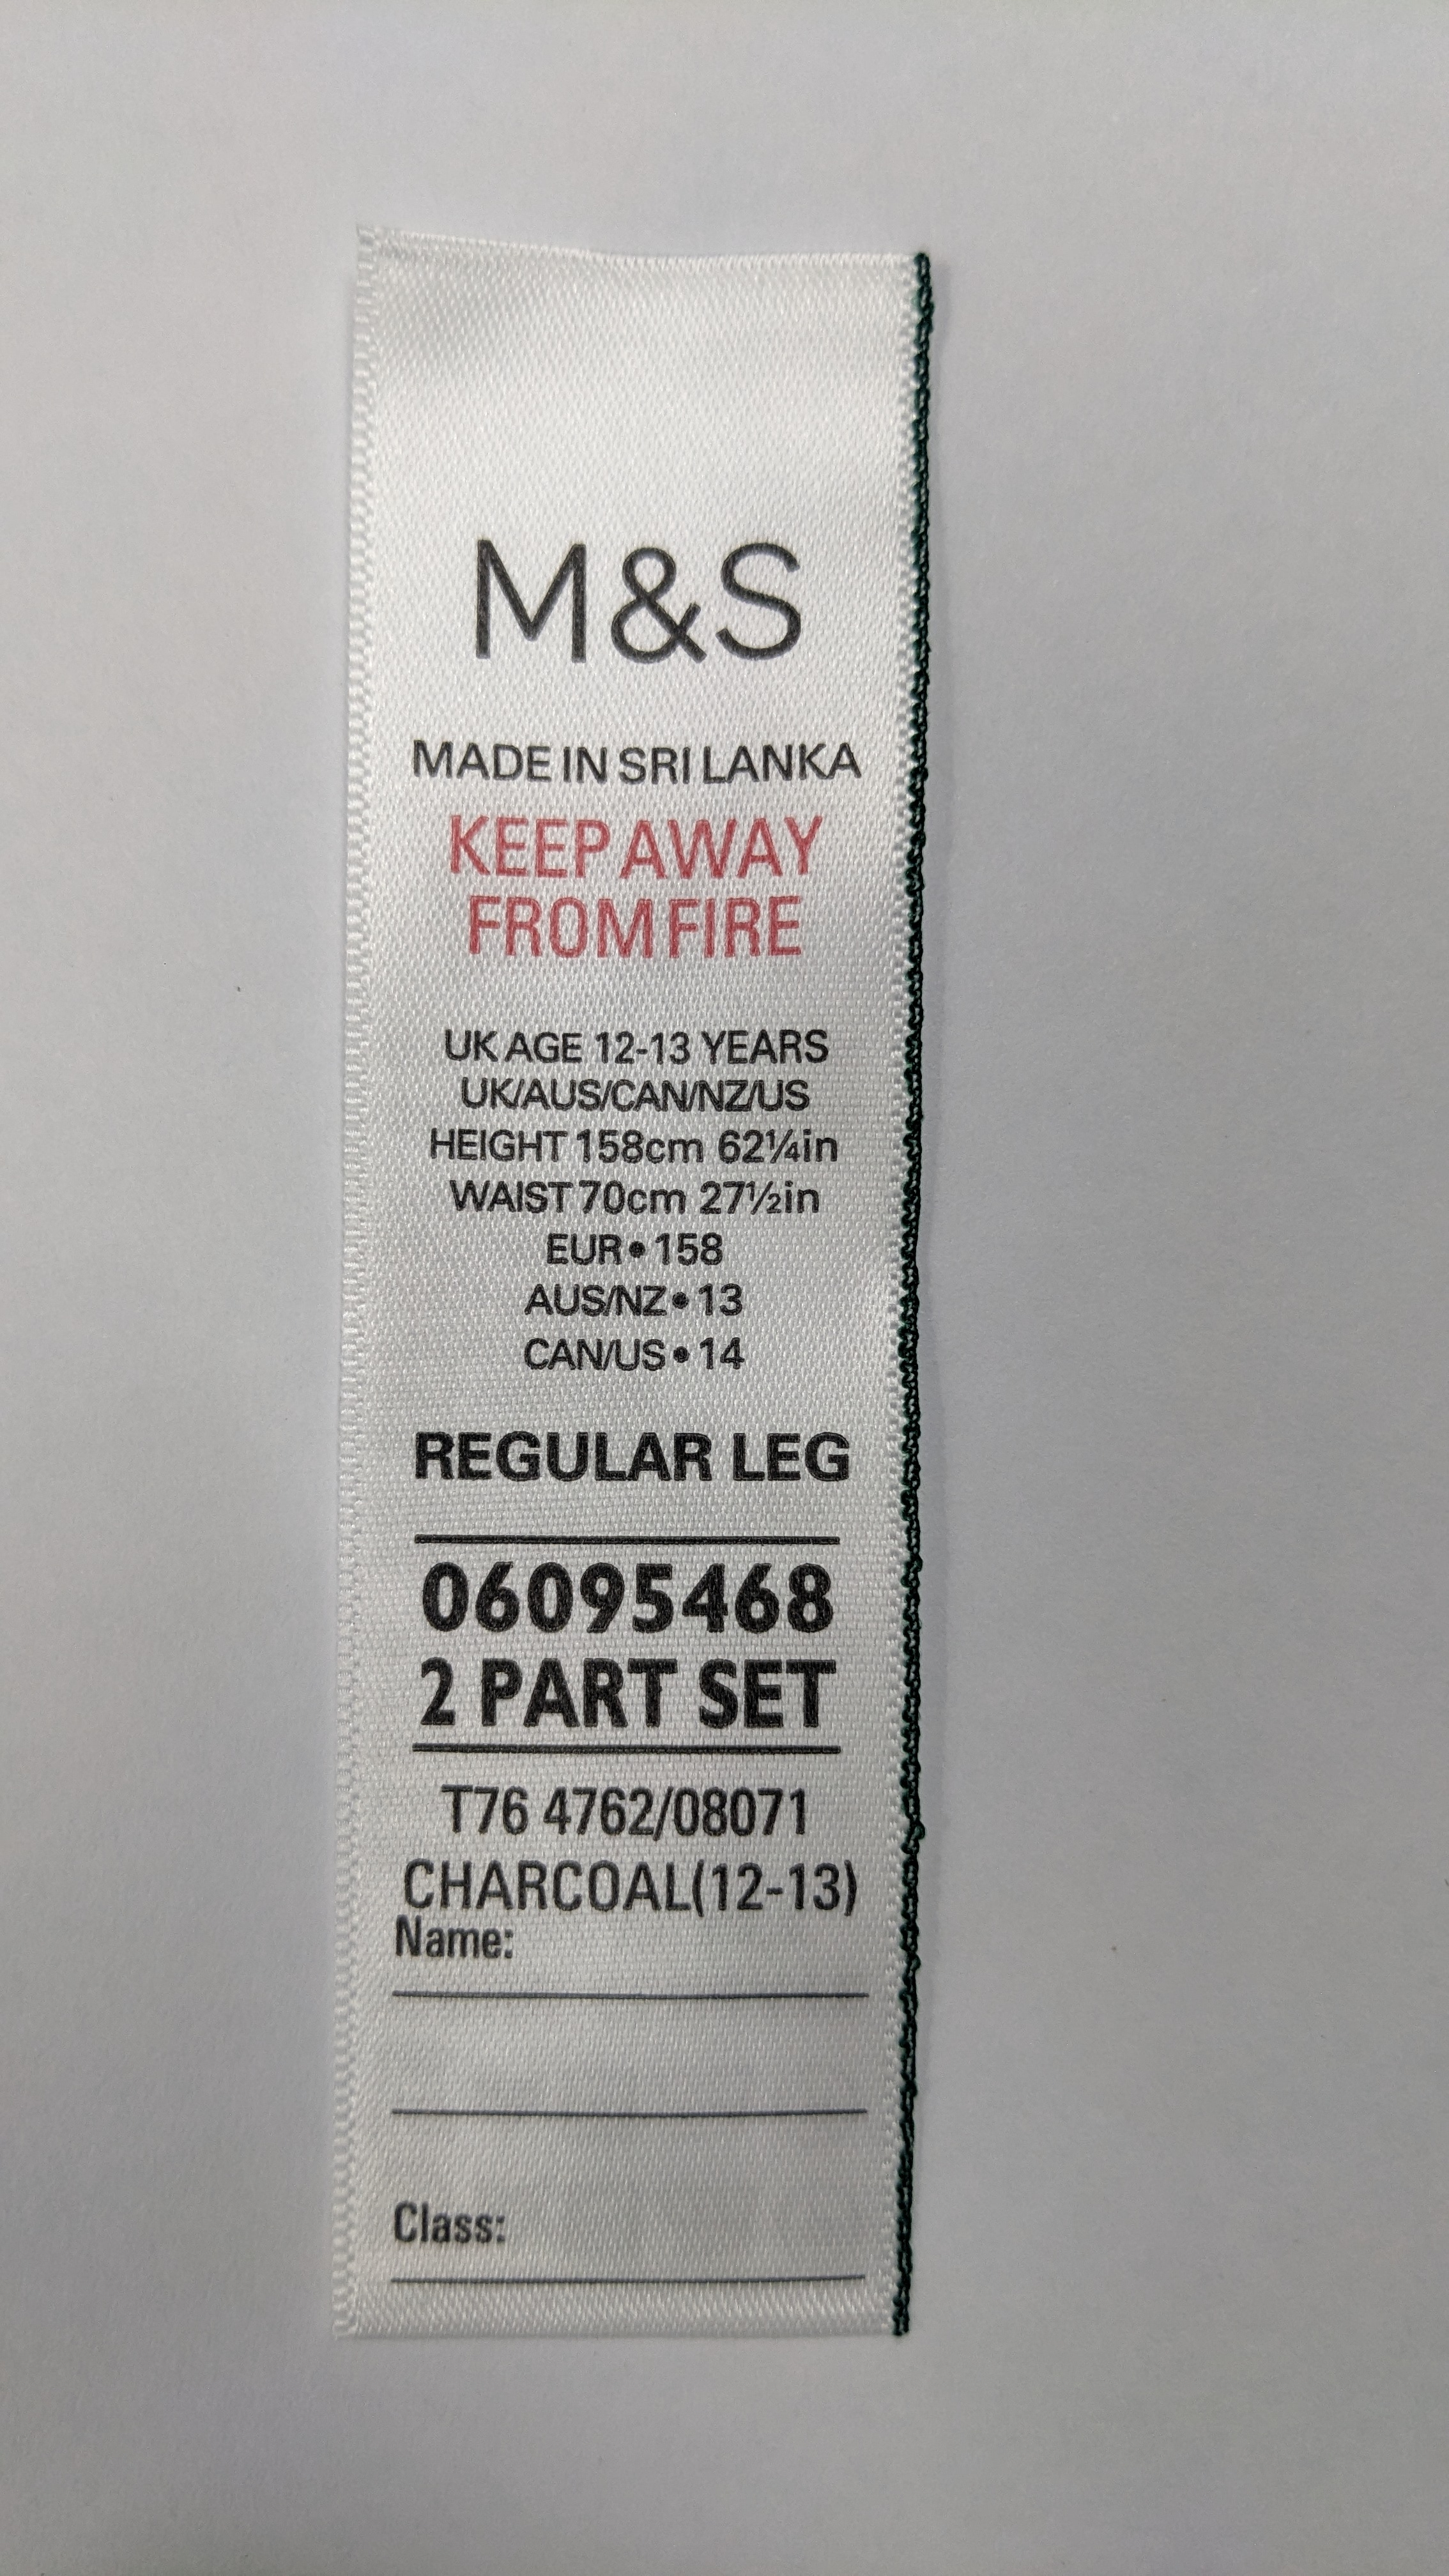Good_label: (295, 165, 943, 2350)
